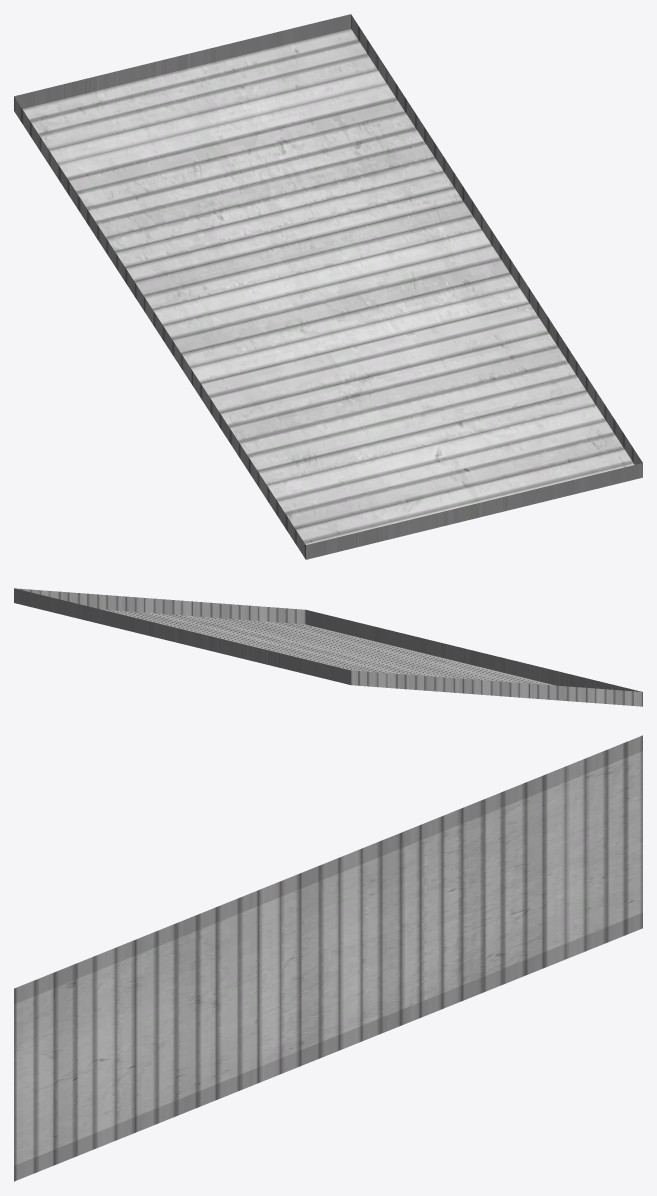
The model's file is Neon_Ceiling_Stairs_L.FBX.
3 renders of one model, top to bottom at view 1: azimuth 30°, elevation 25°; view 2: azimuth 150°, elevation 25°; view 3: azimuth 270°, elevation 25°, orthographic. The views are drawn at different scales.
Visible parts, largest first — view 1: Neon_Ceiling_Stairs_L; view 2: Neon_Ceiling_Stairs_L; view 3: Neon_Ceiling_Stairs_L.
Part boxes in pixels (x1,y1,x2,y2): Neon_Ceiling_Stairs_L: (14,14,642,559); Neon_Ceiling_Stairs_L: (14,588,642,706); Neon_Ceiling_Stairs_L: (14,735,642,1181).
Size of the model in its own units: 6 by 4.25 by 9.
